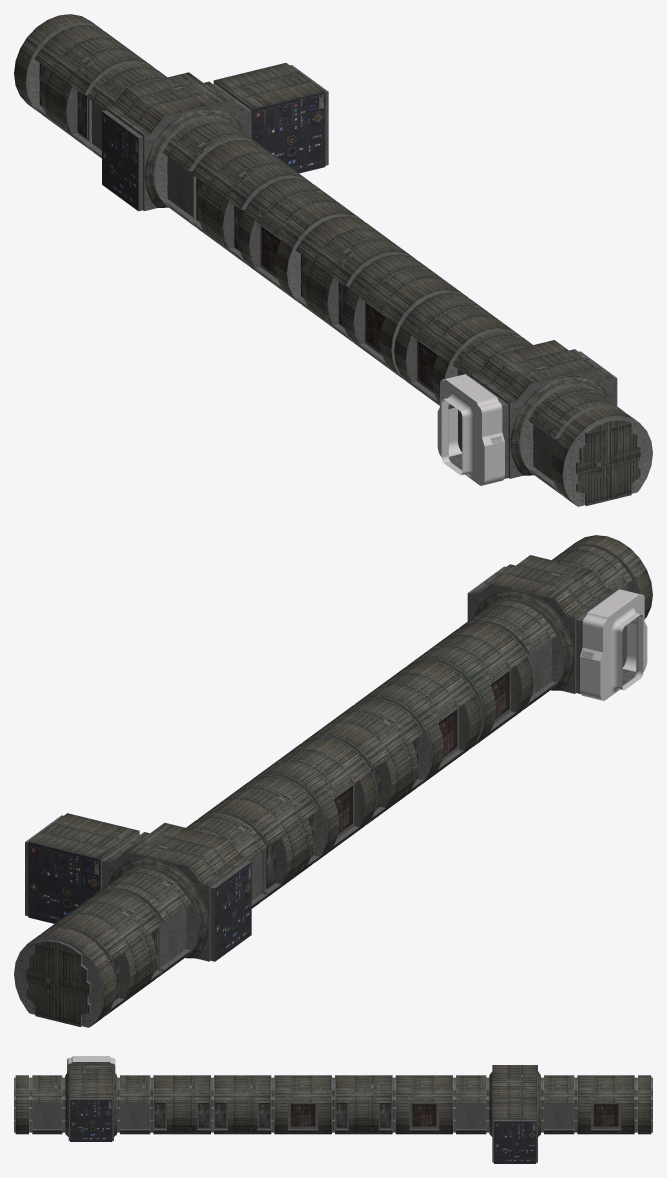
Rendered from thm_spc_corvette_dungeon_r10_hall10_mesh_r10.fbx.
3 renders of one model, top to bottom at view 1: azimuth 30°, elevation 25°; view 2: azimuth 150°, elevation 25°; view 3: azimuth 270°, elevation 25°, orthographic. The views are drawn at different scales.
Parts seen in each view (by area): view 1: mesh_node; view 2: mesh_node; view 3: mesh_node.
Part boxes in pixels (x1,y1,x2,y2): mesh_node: [14, 14, 652, 506]; mesh_node: [14, 535, 652, 1027]; mesh_node: [14, 1056, 652, 1163].
Bounding box in the file's own units: 9.9 × 3.8 × 42.2.
